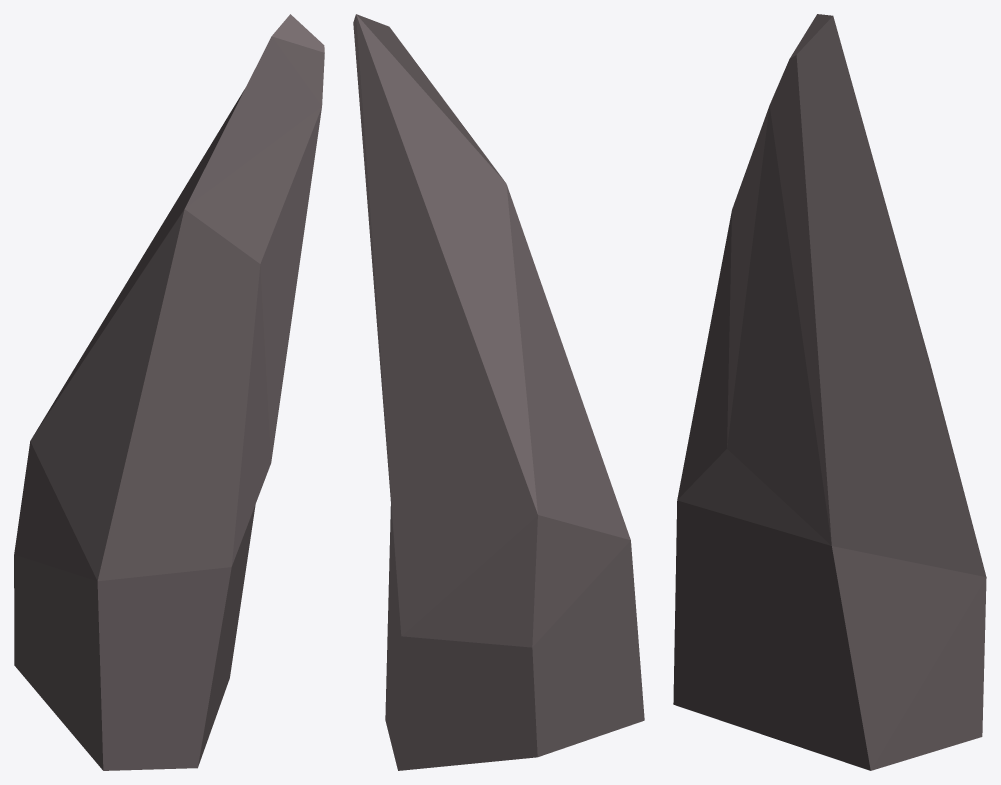
File: Rock_Sharp_m_12.fbx
3 renders of one model, left to right at view 1: azimuth 30°, elevation 25°; view 2: azimuth 150°, elevation 25°; view 3: azimuth 270°, elevation 25°, orthographic. The views are drawn at different scales.
Parts seen in each view (by area): view 1: Rock_Sharp_m_12; view 2: Rock_Sharp_m_12; view 3: Rock_Sharp_m_12.
Boxes of the visible parts, x1,y1,x2,y2 form: Rock_Sharp_m_12: (14, 14, 324, 770); Rock_Sharp_m_12: (353, 14, 644, 770); Rock_Sharp_m_12: (673, 14, 986, 770).
Size of the model in its own units: 0.8243 by 2.08 by 0.7541.
